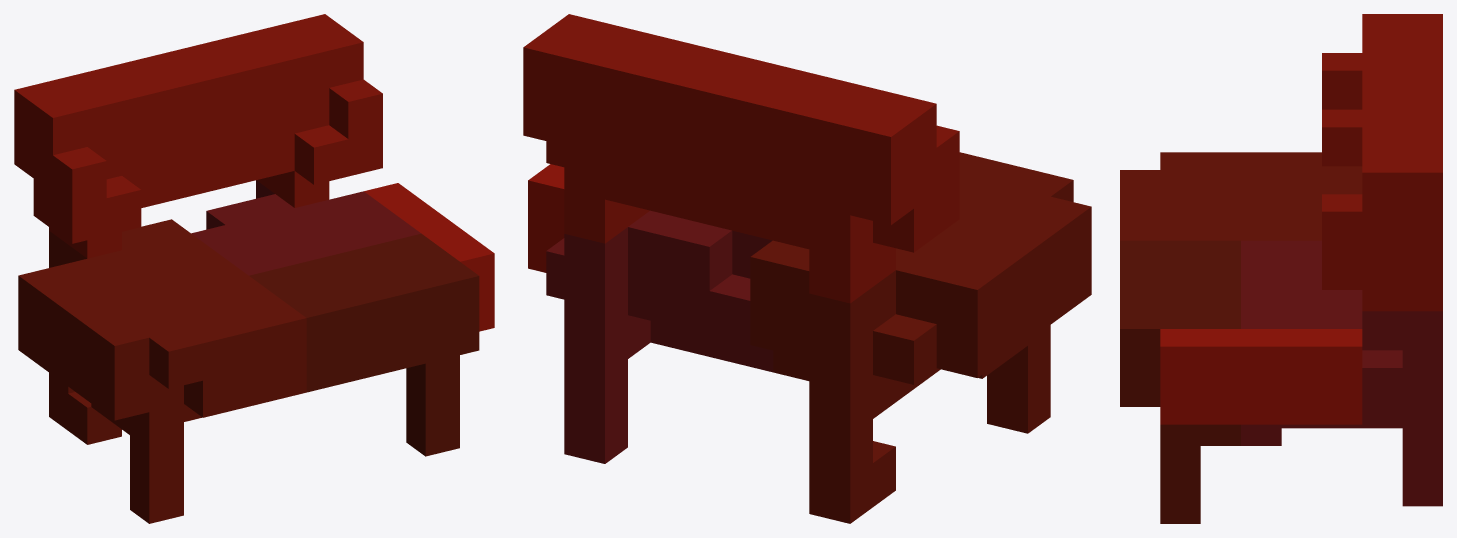
Rendered from SheenChair_064B_vox.glb.
The picture shows the model from 3 angles, left to right: view 1: azimuth 30°, elevation 25°; view 2: azimuth 150°, elevation 25°; view 3: azimuth 270°, elevation 25°; orthographic projection. The views are drawn at different scales.
Size of the model in its own units: 2 by 1.69 by 1.41.
